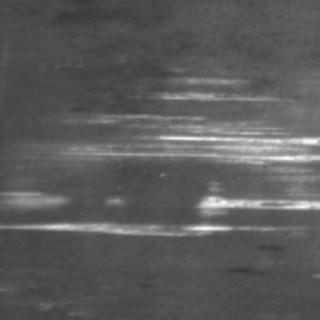scratches: (1, 184, 316, 233), (54, 112, 318, 164), (139, 66, 283, 104)
